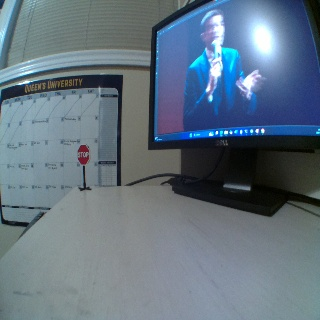sign_stop: (76, 145, 89, 165)
